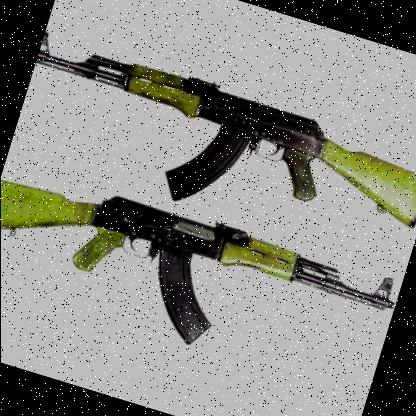rifle: (0, 148, 403, 413), (12, 13, 416, 258)
